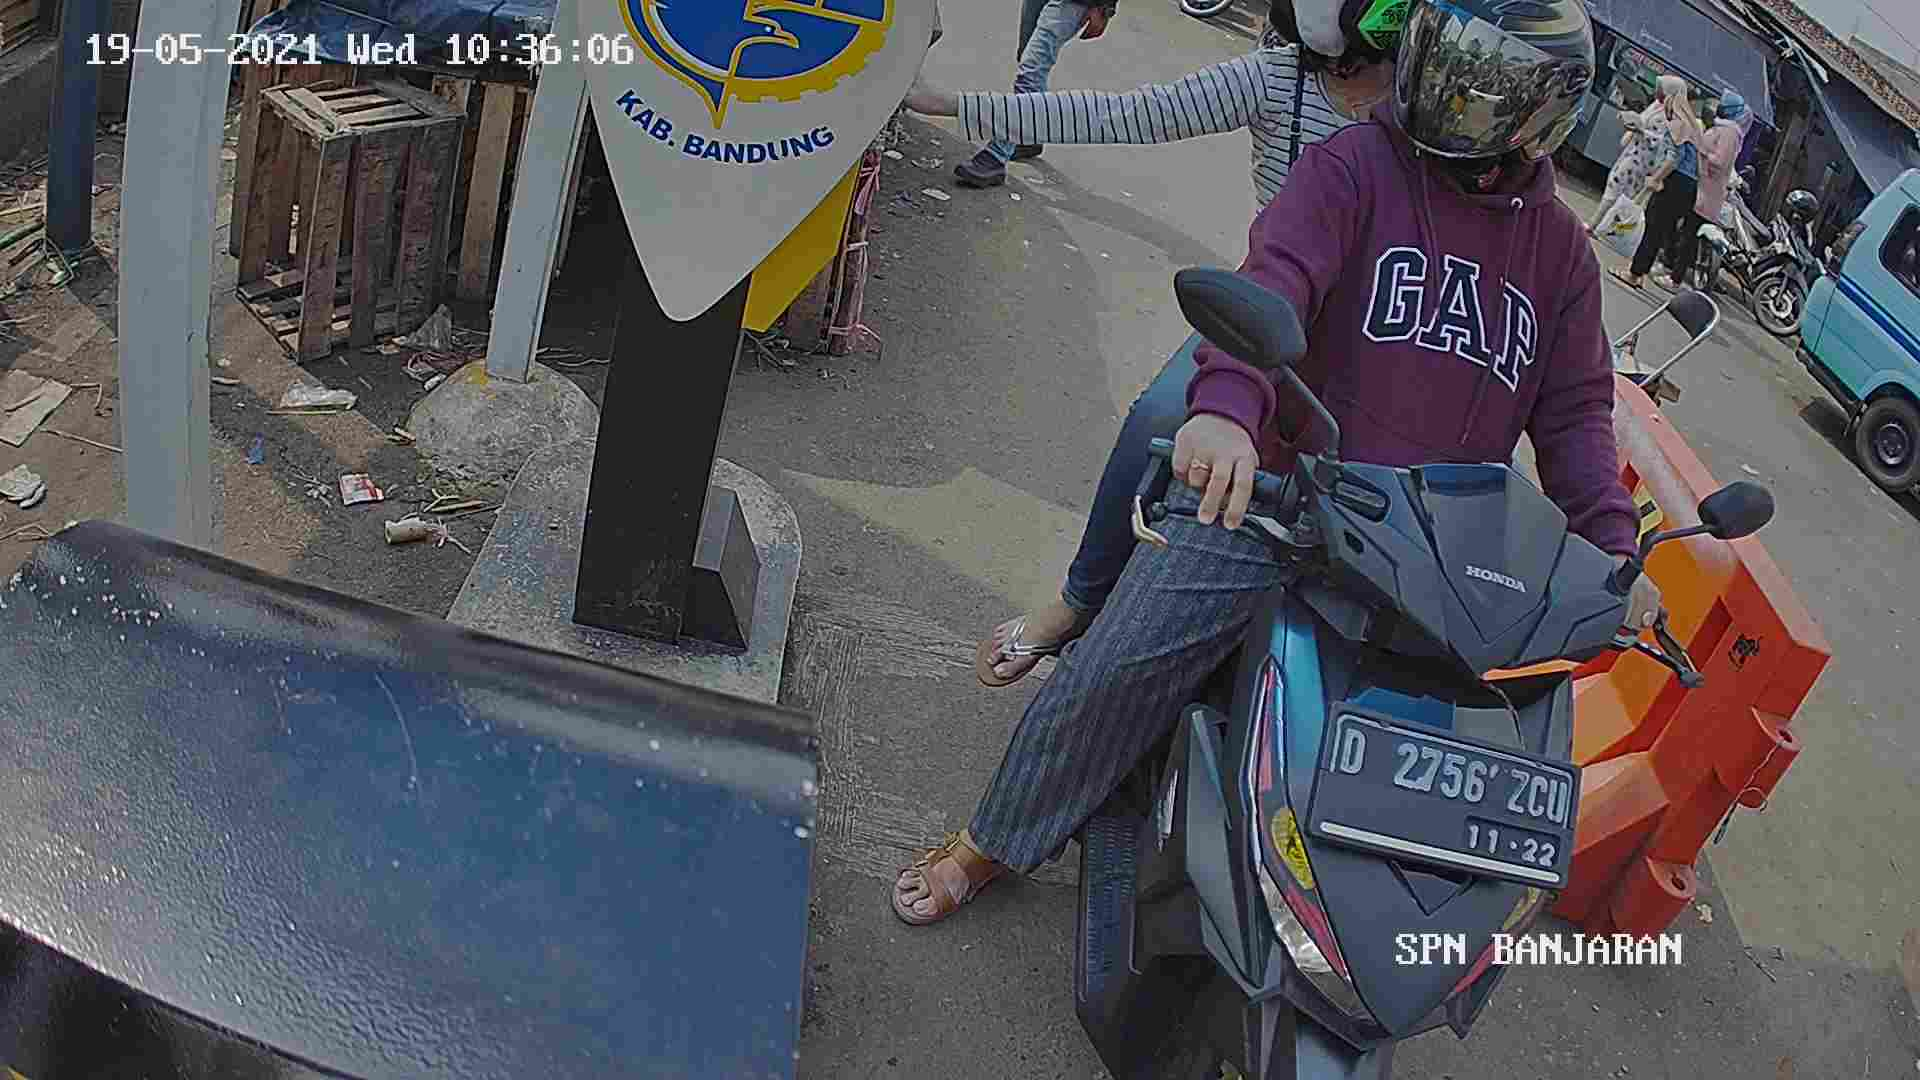motor: (1112, 426, 1726, 1080)
